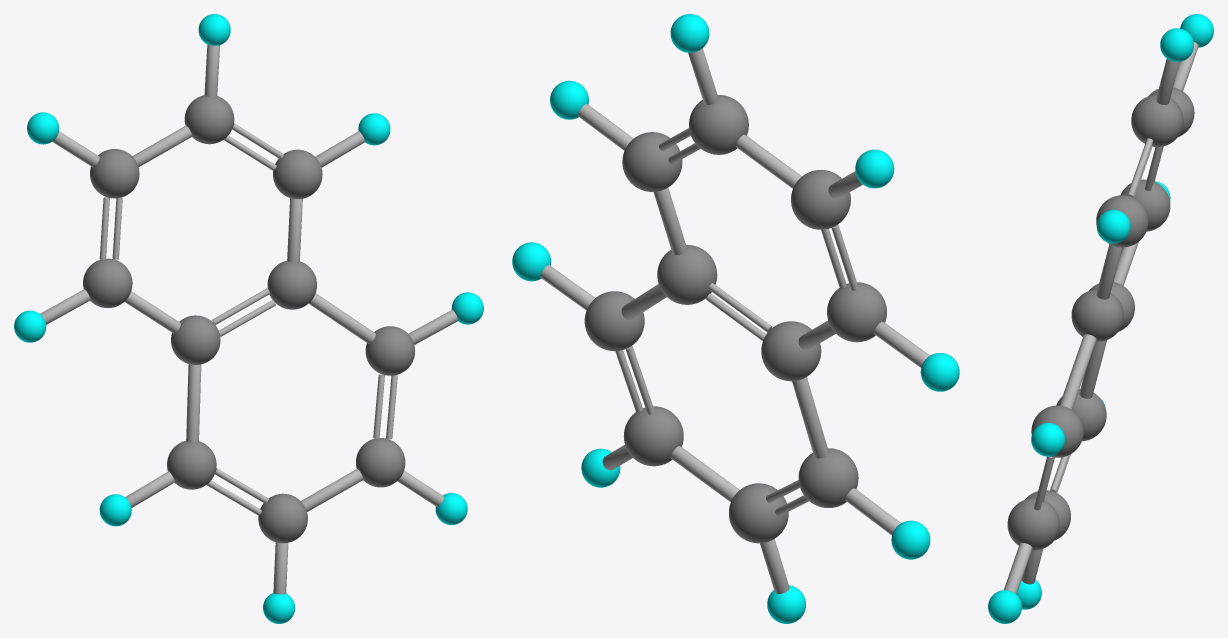
The model's file is naphthalene.glb.
3 renders of one model, left to right at view 1: azimuth 30°, elevation 25°; view 2: azimuth 150°, elevation 25°; view 3: azimuth 270°, elevation 25°, orthographic. The views are drawn at different scales.
Parts seen in each view (by area): view 1: CMAtom_0, CMAtom_12, CMAtom_11, CMAtom_5, CMAtom_1, CMAtom_2, CMAtom_13, CMAtom_4, CMAtom_3, CMAtom_10, CMBond_15_Segment_0, CMBond_11_Segment_0 (+20 smaller); view 2: CMAtom_11, CMAtom_5, CMAtom_1, CMAtom_2, CMAtom_13, CMAtom_12, CMAtom_0, CMAtom_3, CMAtom_10, CMAtom_4, CMBond_15_Segment_0, CMAtom_9 (+18 smaller); view 3: CMAtom_11, CMAtom_2, CMAtom_1, CMAtom_10, CMAtom_0, CMAtom_5, CMAtom_13, CMBond_11_Segment_0, CMAtom_7, CMAtom_17, CMAtom_14, CMAtom_6 (+15 smaller).
Boxes of the visible parts, box(x1,y1,x2,y2) form: CMAtom_0: box(273, 149, 322, 198); CMAtom_12: box(258, 493, 307, 543); CMAtom_11: box(356, 438, 405, 487); CMAtom_5: box(83, 258, 132, 308); CMAtom_1: box(267, 260, 316, 309); CMAtom_2: box(184, 95, 234, 144); CMAtom_13: box(167, 441, 216, 489); CMAtom_4: box(90, 149, 139, 198); CMAtom_3: box(171, 315, 220, 364); CMAtom_10: box(365, 326, 414, 375); CMBond_15_Segment_0: box(186, 364, 201, 442); CMBond_11_Segment_0: box(309, 293, 375, 343); CMAtom_11: box(623, 406, 683, 466); CMAtom_5: box(827, 282, 886, 342); CMAtom_1: box(657, 245, 717, 304); CMAtom_2: box(689, 95, 748, 154); CMAtom_13: box(798, 448, 858, 507); CMAtom_12: box(729, 483, 788, 543); CMAtom_0: box(622, 132, 682, 191); CMAtom_3: box(761, 321, 821, 381); CMAtom_10: box(584, 291, 644, 351); CMAtom_4: box(791, 170, 850, 229); CMBond_15_Segment_0: box(792, 377, 828, 458); CMAtom_9: box(855, 149, 894, 188); CMAtom_11: box(1007, 498, 1059, 550); CMAtom_2: box(1131, 94, 1183, 146); CMAtom_1: box(1071, 289, 1123, 341); CMAtom_10: box(1031, 405, 1083, 457); CMAtom_0: box(1096, 195, 1148, 247); CMAtom_5: box(1120, 179, 1170, 231); CMAtom_13: box(1056, 389, 1106, 441); CMBond_11_Segment_0: box(1059, 334, 1096, 409); CMAtom_7: box(1096, 209, 1130, 243); CMAtom_17: box(988, 590, 1021, 623); CMAtom_14: box(1031, 422, 1064, 456); CMAtom_6: box(1160, 28, 1193, 61).
Bounding box in the file's own units: 5.96 × 7.57 × 2.66.
